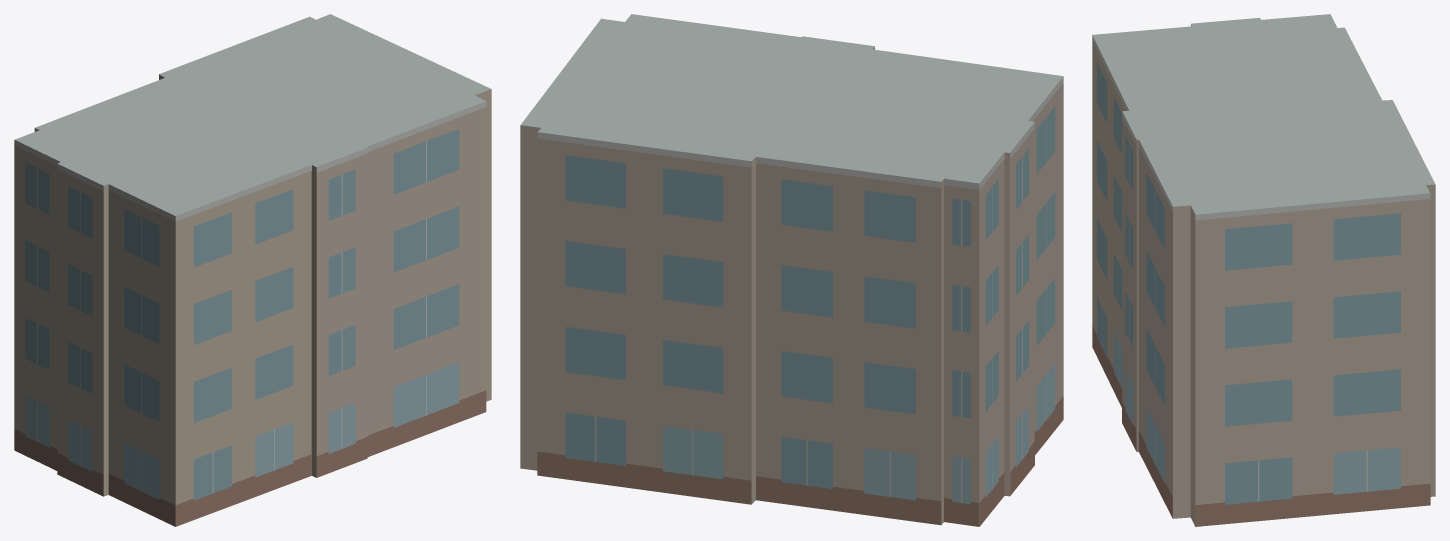
The model's file is survey-upis-33006525.glb.
The picture shows the model from 3 angles, left to right: view 1: azimuth 30°, elevation 25°; view 2: azimuth 150°, elevation 25°; view 3: azimuth 270°, elevation 25°; orthographic projection. The views are drawn at different scales.
Visible parts, largest first — view 1: survey-upis-33006525.tmp; view 2: survey-upis-33006525.tmp; view 3: survey-upis-33006525.tmp.
Boxes of the visible parts, x1=… form: survey-upis-33006525.tmp: x1=14, y1=14, x2=491, y2=526; survey-upis-33006525.tmp: x1=520, y1=14, x2=1063, y2=526; survey-upis-33006525.tmp: x1=1092, y1=14, x2=1435, y2=526.
Bounding box in the file's own units: 18.19 × 13.18 × 13.15.
